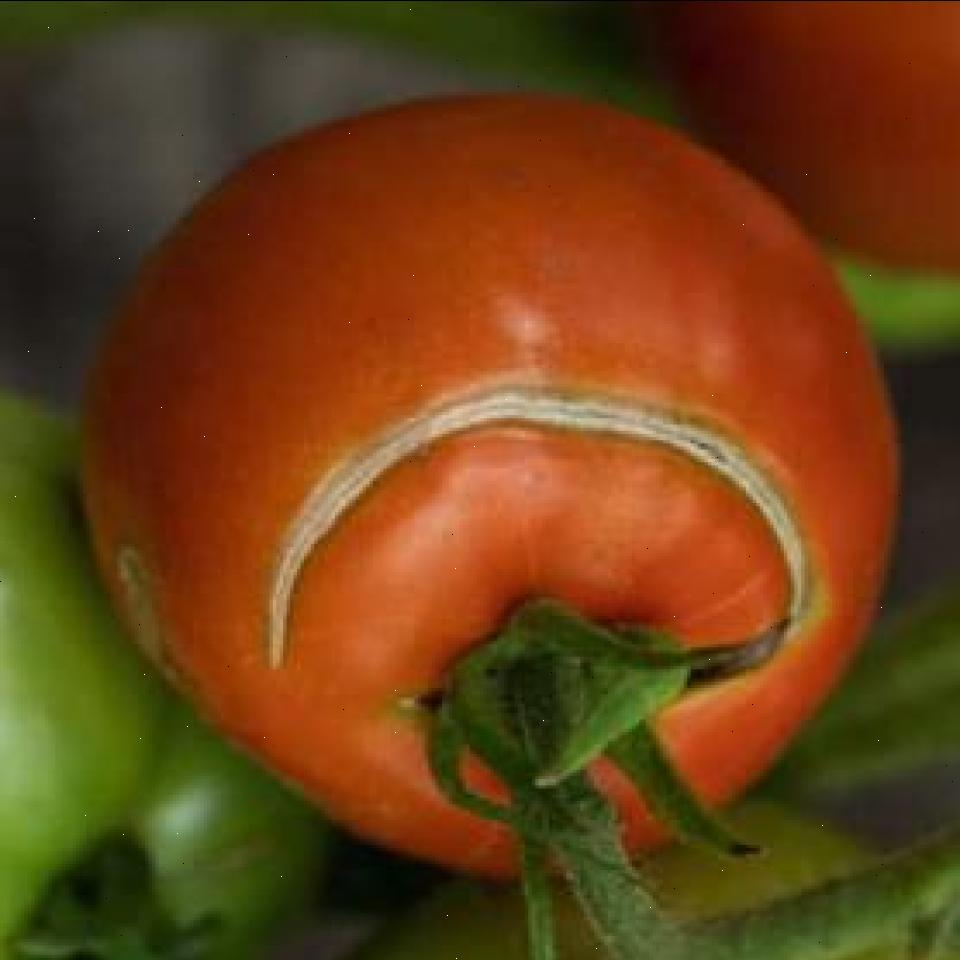Cracking: (218, 374, 824, 706)
